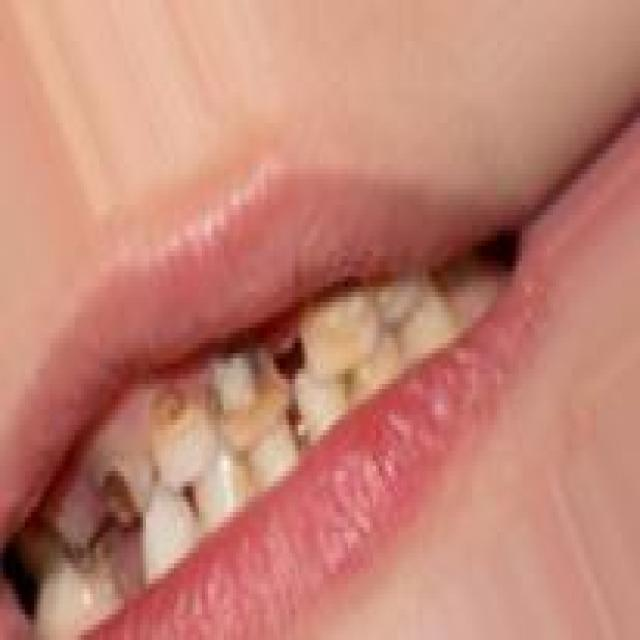caries: (211, 336, 292, 448), (144, 380, 211, 474), (88, 447, 158, 532), (48, 496, 100, 591), (368, 266, 430, 338)
